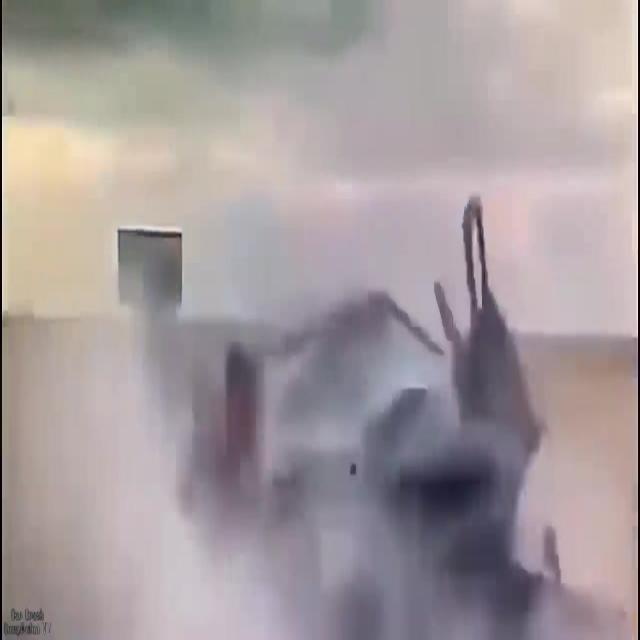accident: (199, 210, 561, 610)
